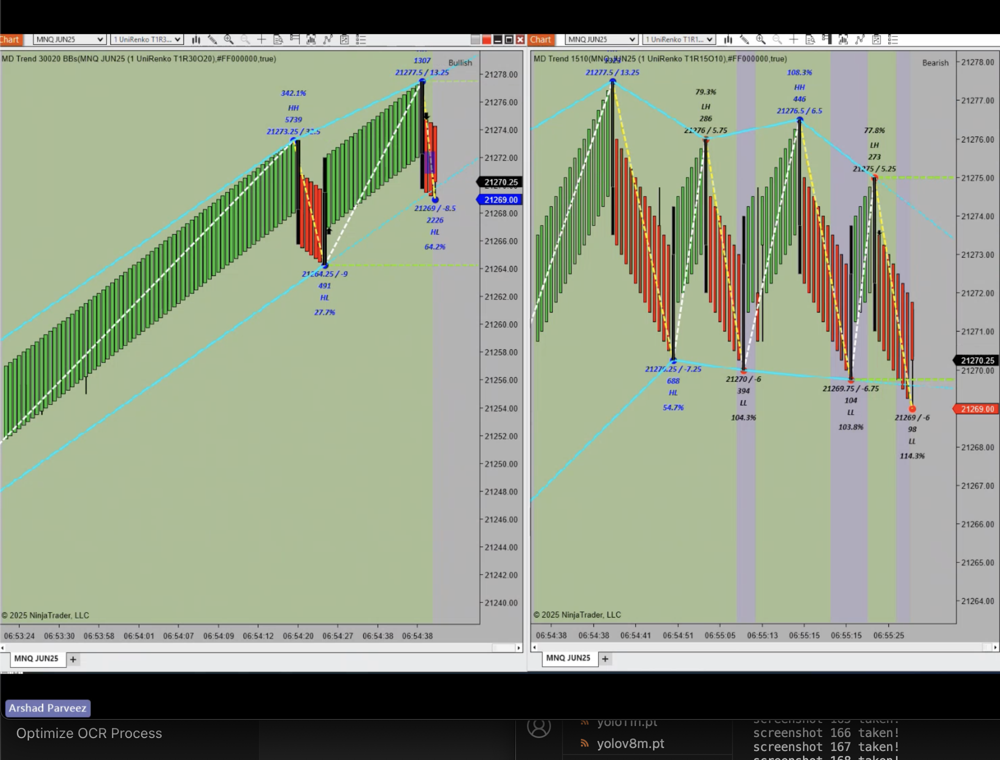HH: (783, 78, 815, 99), (281, 104, 310, 119)
HL: (662, 384, 686, 400), (313, 291, 339, 305), (426, 223, 447, 240)
LH: (866, 138, 891, 157), (694, 100, 717, 118)
LL: (842, 403, 867, 425), (904, 430, 923, 451), (731, 397, 755, 413)
